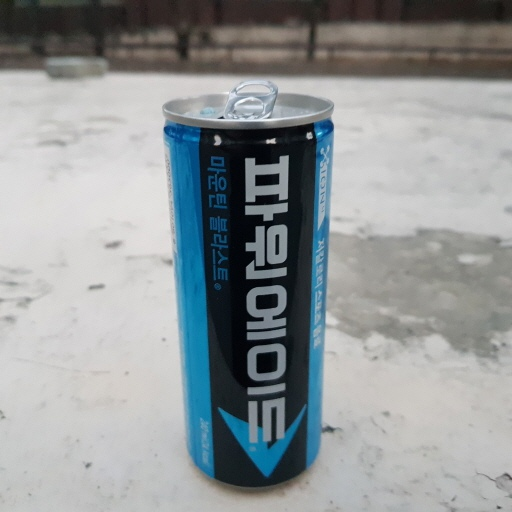Metal_0: (161, 80, 339, 488)
